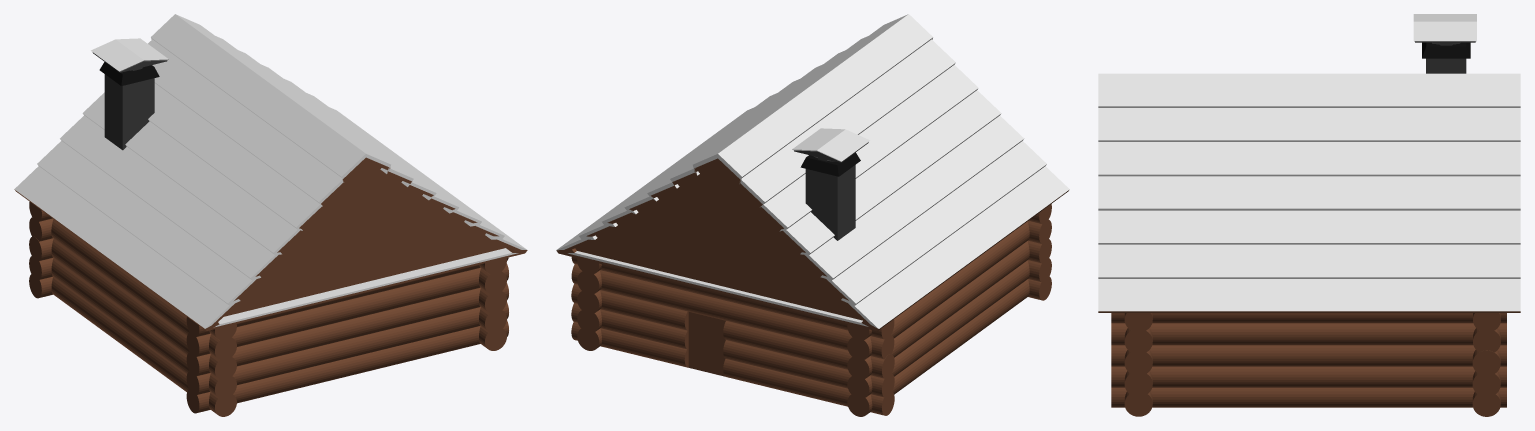
File: PetitChalet.fbx
The picture shows the model from 3 angles, left to right: view 1: azimuth 30°, elevation 25°; view 2: azimuth 150°, elevation 25°; view 3: azimuth 270°, elevation 25°; orthographic projection. The views are drawn at different scales.
Parts seen in each view (by area): view 1: Cube, Cylinder.011, Cylinder.012, Cylinder.013, Cube.001, Cylinder.014, Cylinder.006, Cylinder.007, Cylinder.008, Cylinder.009, Cylinder.010, Cylinder.001 (+4 smaller); view 2: Cube, Cylinder.018, Cube.001, Cylinder.006, Cylinder.007, Cylinder.008, Cylinder.009, Cylinder.022, Cylinder.021, Cylinder.020, Cylinder.019, Cylinder.017 (+3 smaller); view 3: Cube, Cylinder.003, Cylinder.002, Cylinder.001, Cylinder, Cylinder.004, Cube.001, Cylinder.017, Cylinder.011, Cylinder.013, Cylinder.012, Cylinder.014 (+5 smaller).
Part boxes in pixels (bbox=[...]): Cube: bbox=[14, 14, 527, 330]; Cylinder.011: bbox=[186, 263, 508, 356]; Cylinder.012: bbox=[186, 283, 508, 375]; Cylinder.013: bbox=[186, 302, 508, 394]; Cube.001: bbox=[91, 38, 168, 150]; Cylinder.014: bbox=[186, 320, 508, 413]; Cylinder.006: bbox=[51, 219, 236, 360]; Cylinder.007: bbox=[51, 239, 236, 378]; Cylinder.008: bbox=[51, 258, 236, 398]; Cylinder.009: bbox=[51, 277, 236, 416]; Cylinder.010: bbox=[186, 257, 508, 336]; Cylinder.001: bbox=[479, 307, 506, 333]; Cube: bbox=[556, 14, 1069, 376]; Cylinder.018: bbox=[571, 264, 894, 359]; Cube.001: bbox=[792, 128, 870, 240]; Cylinder.006: bbox=[847, 221, 1029, 360]; Cylinder.007: bbox=[847, 241, 1029, 379]; Cylinder.008: bbox=[847, 260, 1029, 398]; Cylinder.009: bbox=[847, 279, 1029, 416]; Cylinder.022: bbox=[723, 321, 894, 378]; Cylinder.021: bbox=[723, 340, 894, 397]; Cylinder.020: bbox=[723, 359, 894, 415]; Cylinder.019: bbox=[571, 257, 894, 339]; Cylinder.017: bbox=[571, 284, 688, 330]; Cube: bbox=[1098, 73, 1520, 312]; Cylinder.003: bbox=[1111, 323, 1506, 345]; Cylinder.002: bbox=[1111, 345, 1506, 366]; Cylinder.001: bbox=[1111, 366, 1506, 387]; Cylinder: bbox=[1111, 387, 1506, 407]; Cylinder.004: bbox=[1111, 313, 1506, 323]; Cube.001: bbox=[1413, 14, 1476, 73]; Cylinder.017: bbox=[1472, 350, 1500, 376]; Cylinder.011: bbox=[1124, 328, 1152, 354]; Cylinder.013: bbox=[1124, 371, 1152, 396]; Cylinder.012: bbox=[1124, 350, 1152, 375]; Cylinder.014: bbox=[1124, 391, 1152, 416].
Bounding box in the file's own units: 487 × 350 × 499.
